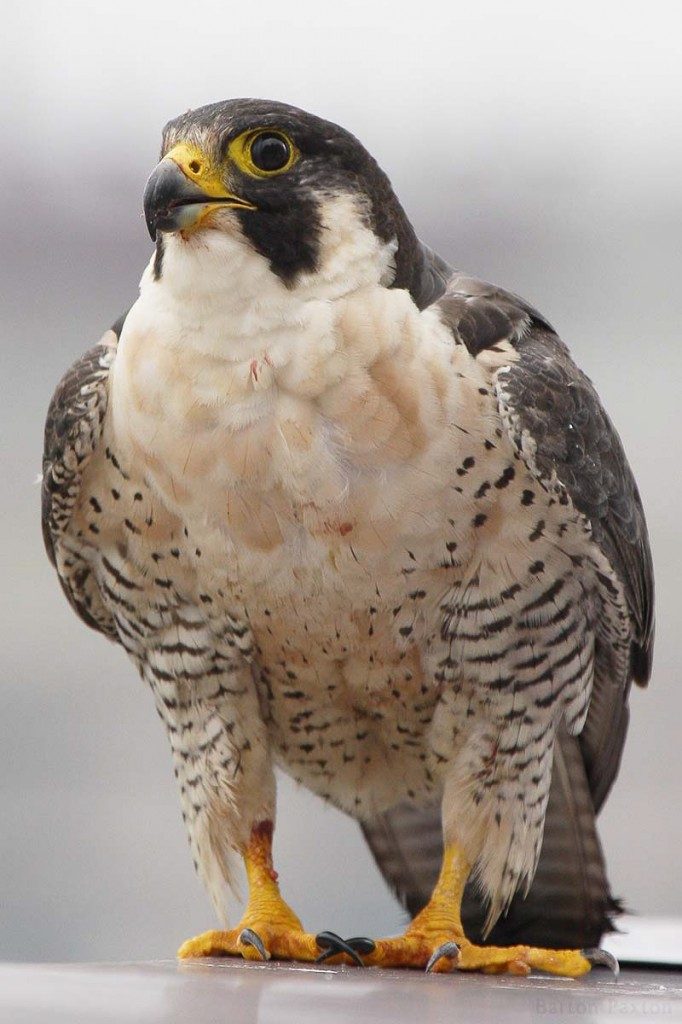Pengoyak Daging: (132, 144, 210, 246)
